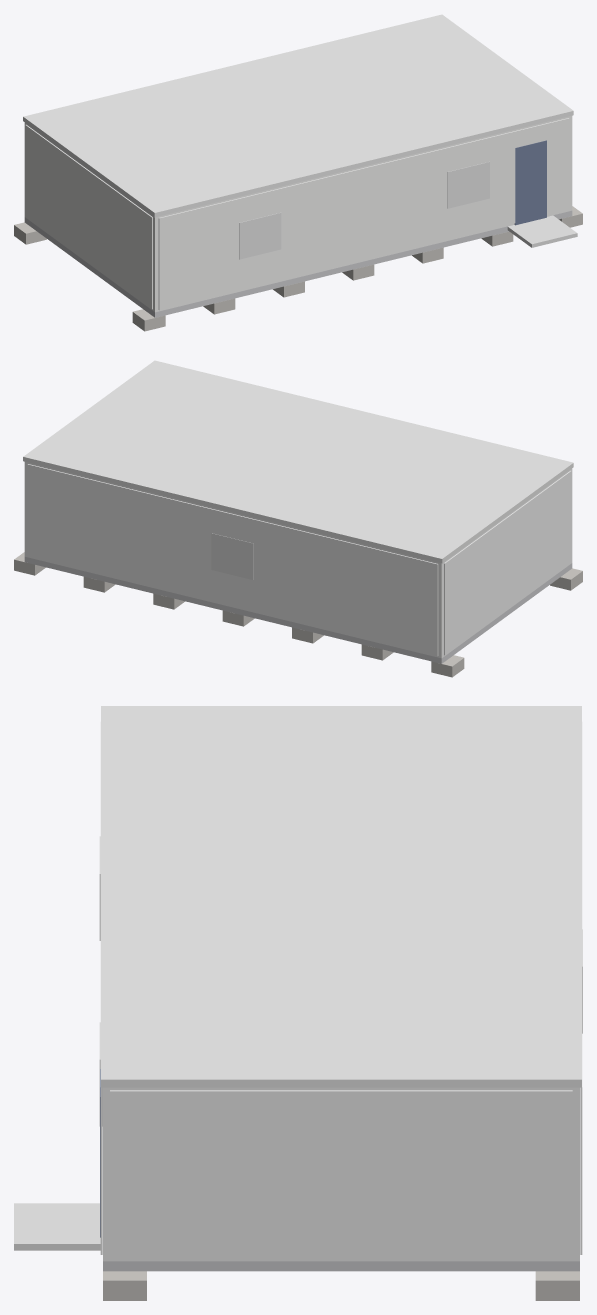
File: Studio-40-Retirement-LOD2.glb
3 views of the same model, one above another, from view 1: azimuth 30°, elevation 25°; view 2: azimuth 150°, elevation 25°; view 3: azimuth 270°, elevation 25° (orthographic). The views are drawn at different scales.
Parts seen in each view (by area): view 1: RoofMain, ExteriorPanelsStandard, WindowsStandard, ExteriorShell, BaseFrame, FoundationBlocks, EntryDoor, AccessibilityRetirement; view 2: RoofMain, ExteriorPanelsStandard, BaseFrame, ExteriorShell, FoundationBlocks, WindowsStandard; view 3: RoofMain, ExteriorPanelsStandard, ExteriorShell, BaseFrame, AccessibilityRetirement, FoundationBlocks.
Part boxes in pixels (left/top/right/bottom): RoofMain: left=23, top=14, right=573, bottom=217; ExteriorPanelsStandard: left=25, top=118, right=569, bottom=310; WindowsStandard: left=239, top=161, right=489, bottom=259; ExteriorShell: left=24, top=116, right=572, bottom=312; BaseFrame: left=24, top=210, right=572, bottom=317; FoundationBlocks: left=14, top=206, right=582, bottom=331; EntryDoor: left=514, top=140, right=546, bottom=225; AccessibilityRetirement: left=507, top=215, right=577, bottom=247; RoofMain: left=23, top=360, right=573, bottom=563; ExteriorPanelsStandard: left=27, top=464, right=571, bottom=656; BaseFrame: left=24, top=557, right=572, bottom=663; ExteriorShell: left=24, top=462, right=572, bottom=658; FoundationBlocks: left=14, top=552, right=582, bottom=677; WindowsStandard: left=211, top=533, right=253, bottom=579; RoofMain: left=101, top=706, right=581, bottom=1087; ExteriorPanelsStandard: left=100, top=722, right=582, bottom=1258; ExteriorShell: left=103, top=1087, right=579, bottom=1261; BaseFrame: left=103, top=1261, right=579, bottom=1271; AccessibilityRetirement: left=14, top=1203, right=100, bottom=1250; FoundationBlocks: left=103, top=1271, right=579, bottom=1300.
Bounding box in the file's own units: 12.49 × 3.17 × 7.69.
